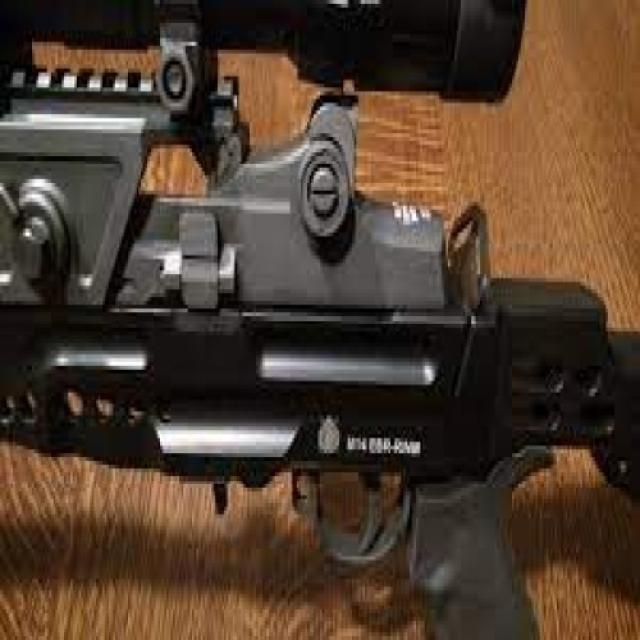Gun: (4, 58, 640, 550)
